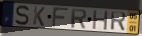F: (51, 7, 70, 29)
H: (92, 9, 110, 31)
K: (32, 6, 46, 27)
R: (70, 8, 88, 30), (110, 11, 127, 32)
S: (15, 5, 31, 26)
